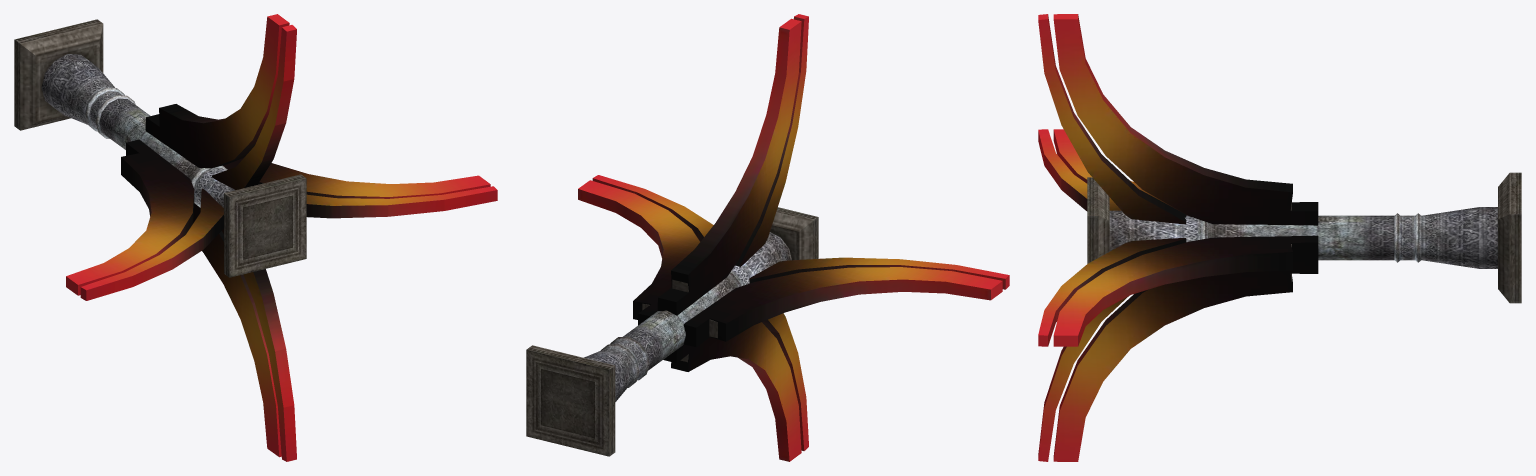
The picture shows the model from 3 angles, left to right: view 1: azimuth 30°, elevation 25°; view 2: azimuth 150°, elevation 25°; view 3: azimuth 270°, elevation 25°; orthographic projection. The views are drawn at different scales.
Visible parts, largest first — view 1: model_Object01; view 2: model_Object01; view 3: model_Object01.
Boxes of the visible parts, x1,y1,x2,y2 form: model_Object01: (14, 14, 497, 461); model_Object01: (526, 14, 1009, 461); model_Object01: (1038, 14, 1521, 461).
Bounding box in the file's own units: 4.21 × 4.21 × 4.17.
Materials: 3 (3 with a texture image).
